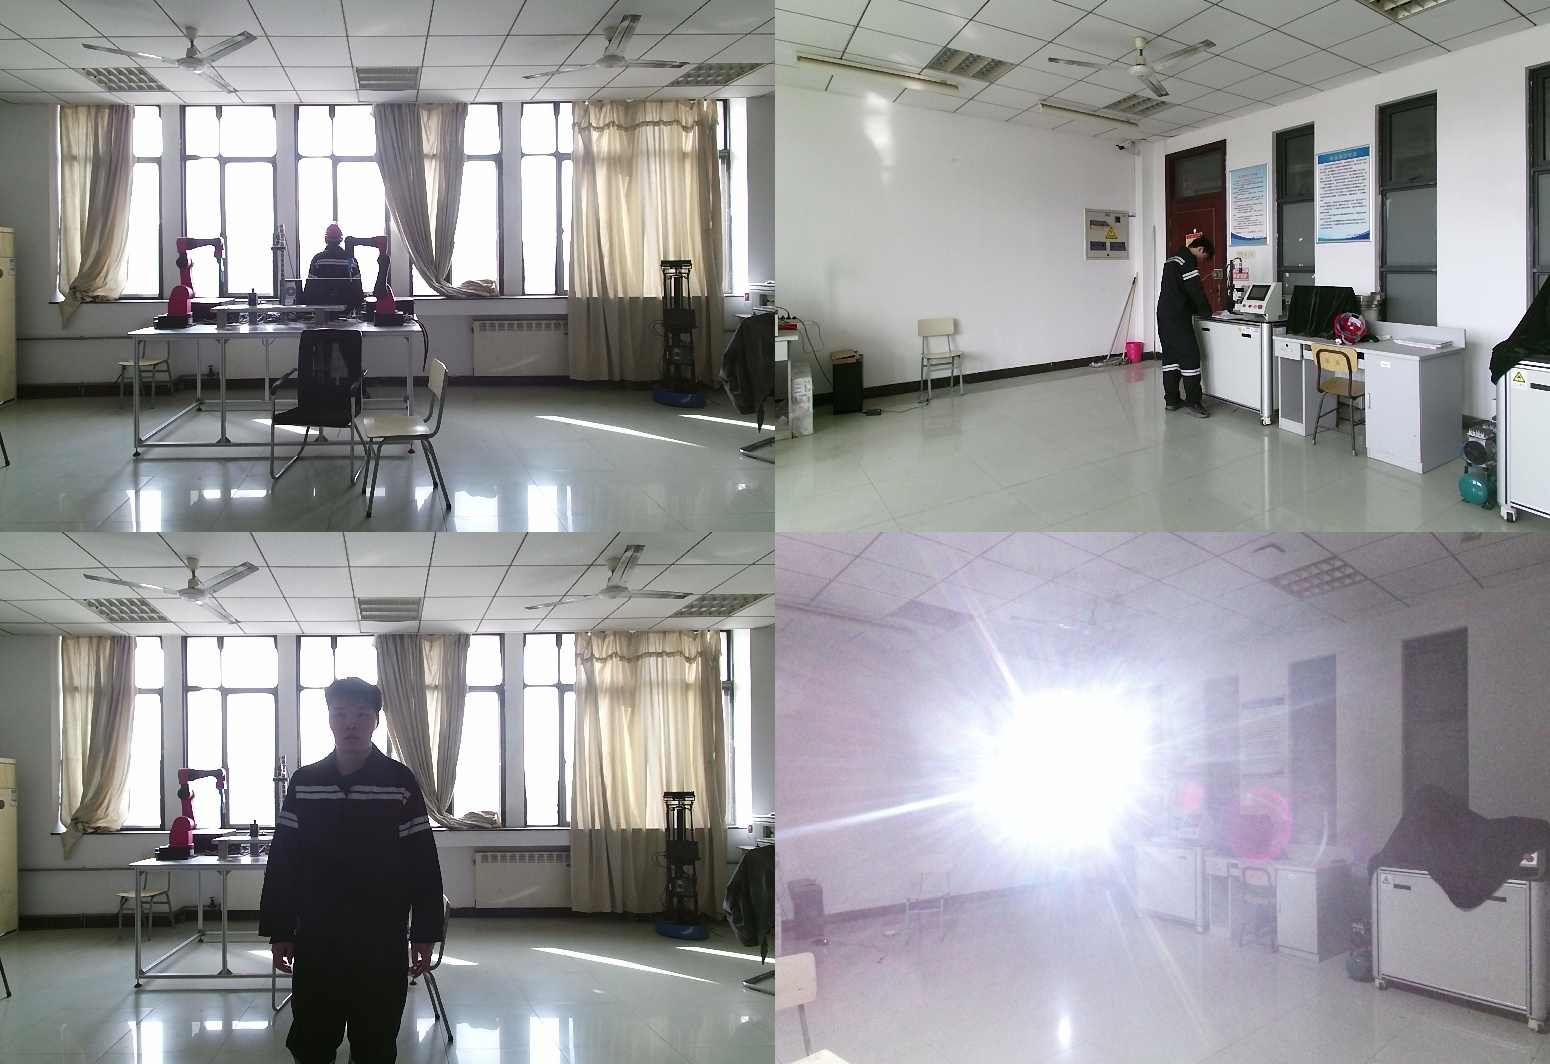person: (268, 678, 458, 1064), (1159, 239, 1218, 420), (302, 225, 362, 380), (1038, 768, 1087, 901)
